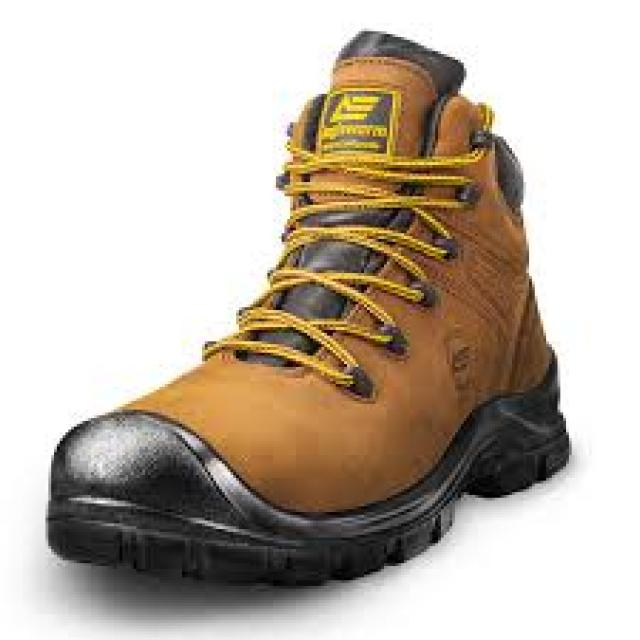shoes: (45, 31, 574, 589)
